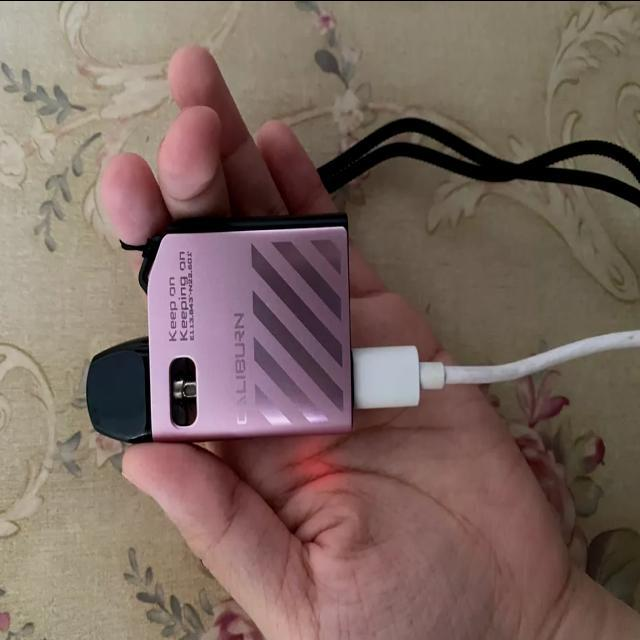Hazard: (88, 210, 357, 442)
